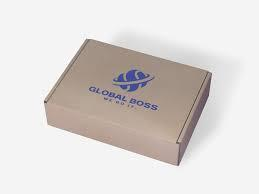box: (44, 38, 213, 167)
